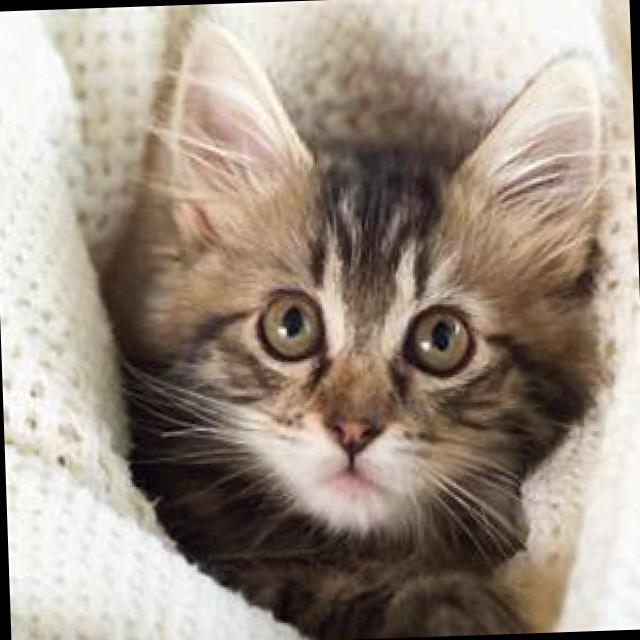cat: (89, 0, 631, 640)
